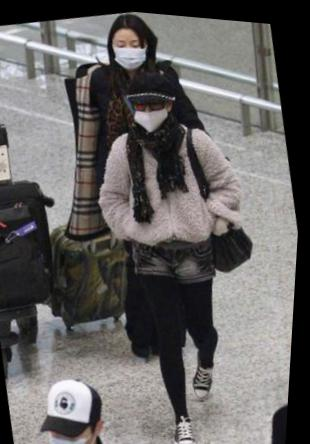OK: (109, 29, 150, 71)
WRONG: (133, 94, 174, 134), (51, 416, 104, 444)
